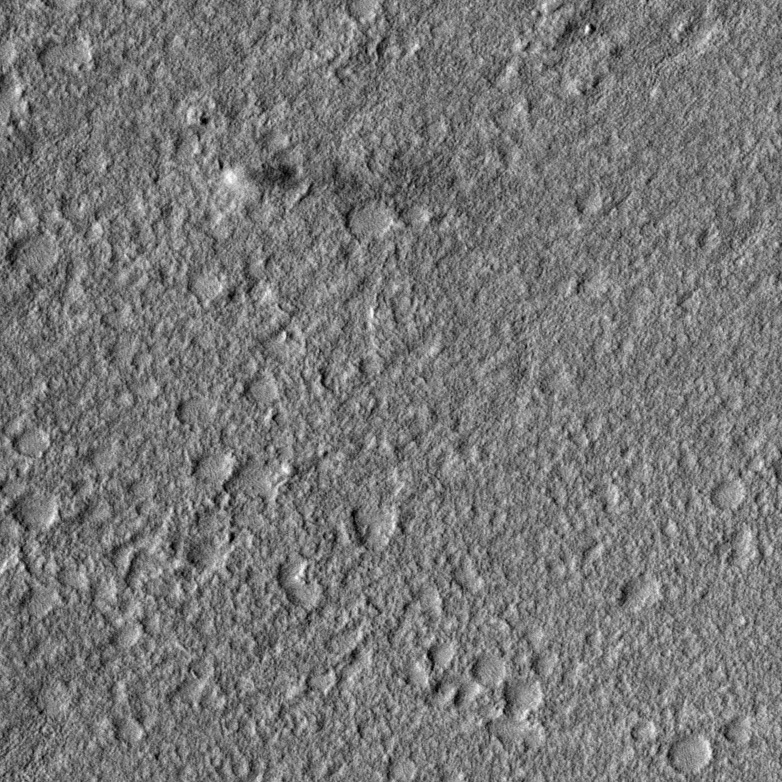dust_devil: (220, 148, 455, 230)
